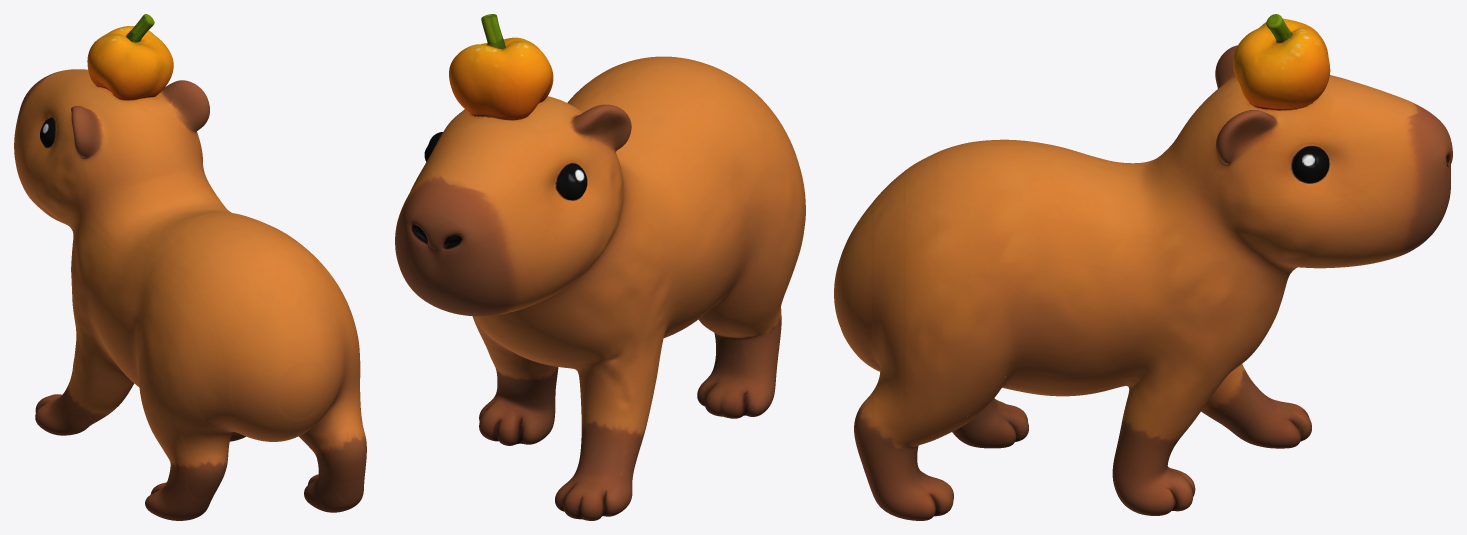
The model's file is tripo_convert_6c40523a-c216-4583-8047-84b98420b631.glb.
3 renders of one model, left to right at view 1: azimuth 30°, elevation 25°; view 2: azimuth 150°, elevation 25°; view 3: azimuth 270°, elevation 25°, orthographic. The views are drawn at different scales.
Parts seen in each view (by area): view 1: tripo_node_6c40523a-c216-4583-8047-84b98420b631; view 2: tripo_node_6c40523a-c216-4583-8047-84b98420b631; view 3: tripo_node_6c40523a-c216-4583-8047-84b98420b631.
Part boxes in pixels (x1=…): tripo_node_6c40523a-c216-4583-8047-84b98420b631: x1=14, y1=14, x2=366, y2=520; tripo_node_6c40523a-c216-4583-8047-84b98420b631: x1=395, y1=14, x2=805, y2=520; tripo_node_6c40523a-c216-4583-8047-84b98420b631: x1=834, y1=14, x2=1452, y2=520.
Bounding box in the file's own units: 0.4419 × 0.8436 × 1.
Materials: 1 (1 with a texture image).
